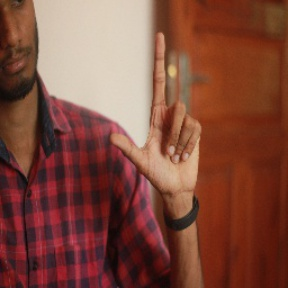L: (112, 32, 204, 191)
